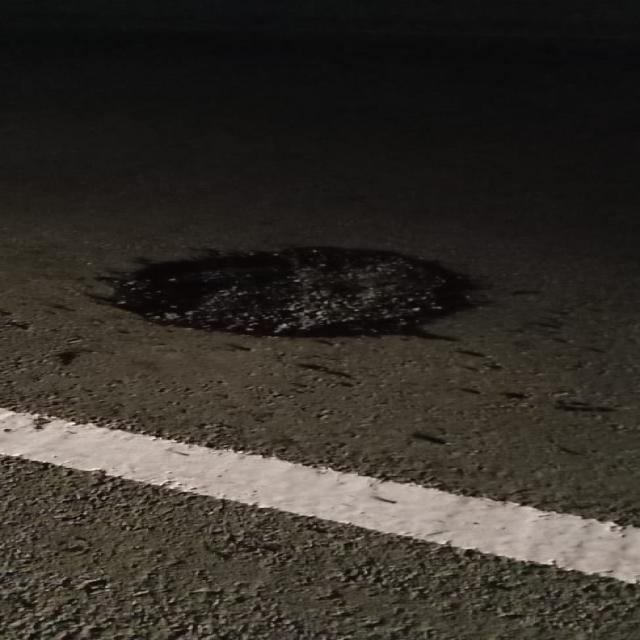Buraco: (82, 240, 499, 344)
